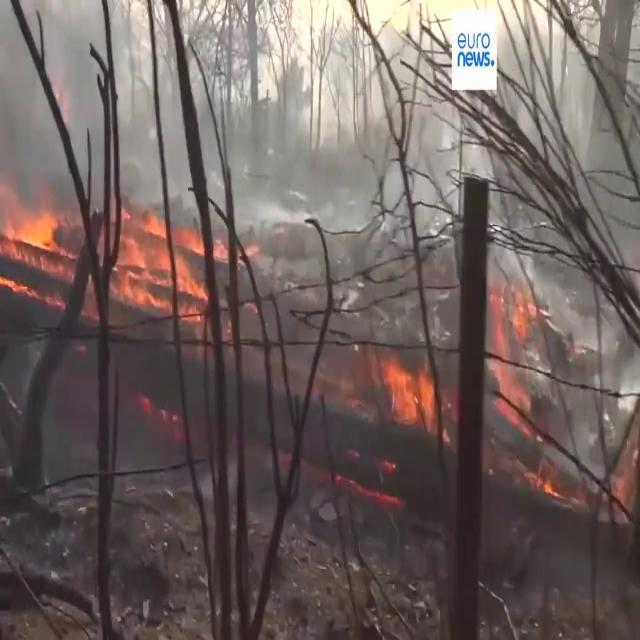Fire: (0, 174, 215, 320), (109, 203, 213, 326), (0, 192, 69, 297), (375, 342, 443, 436)
